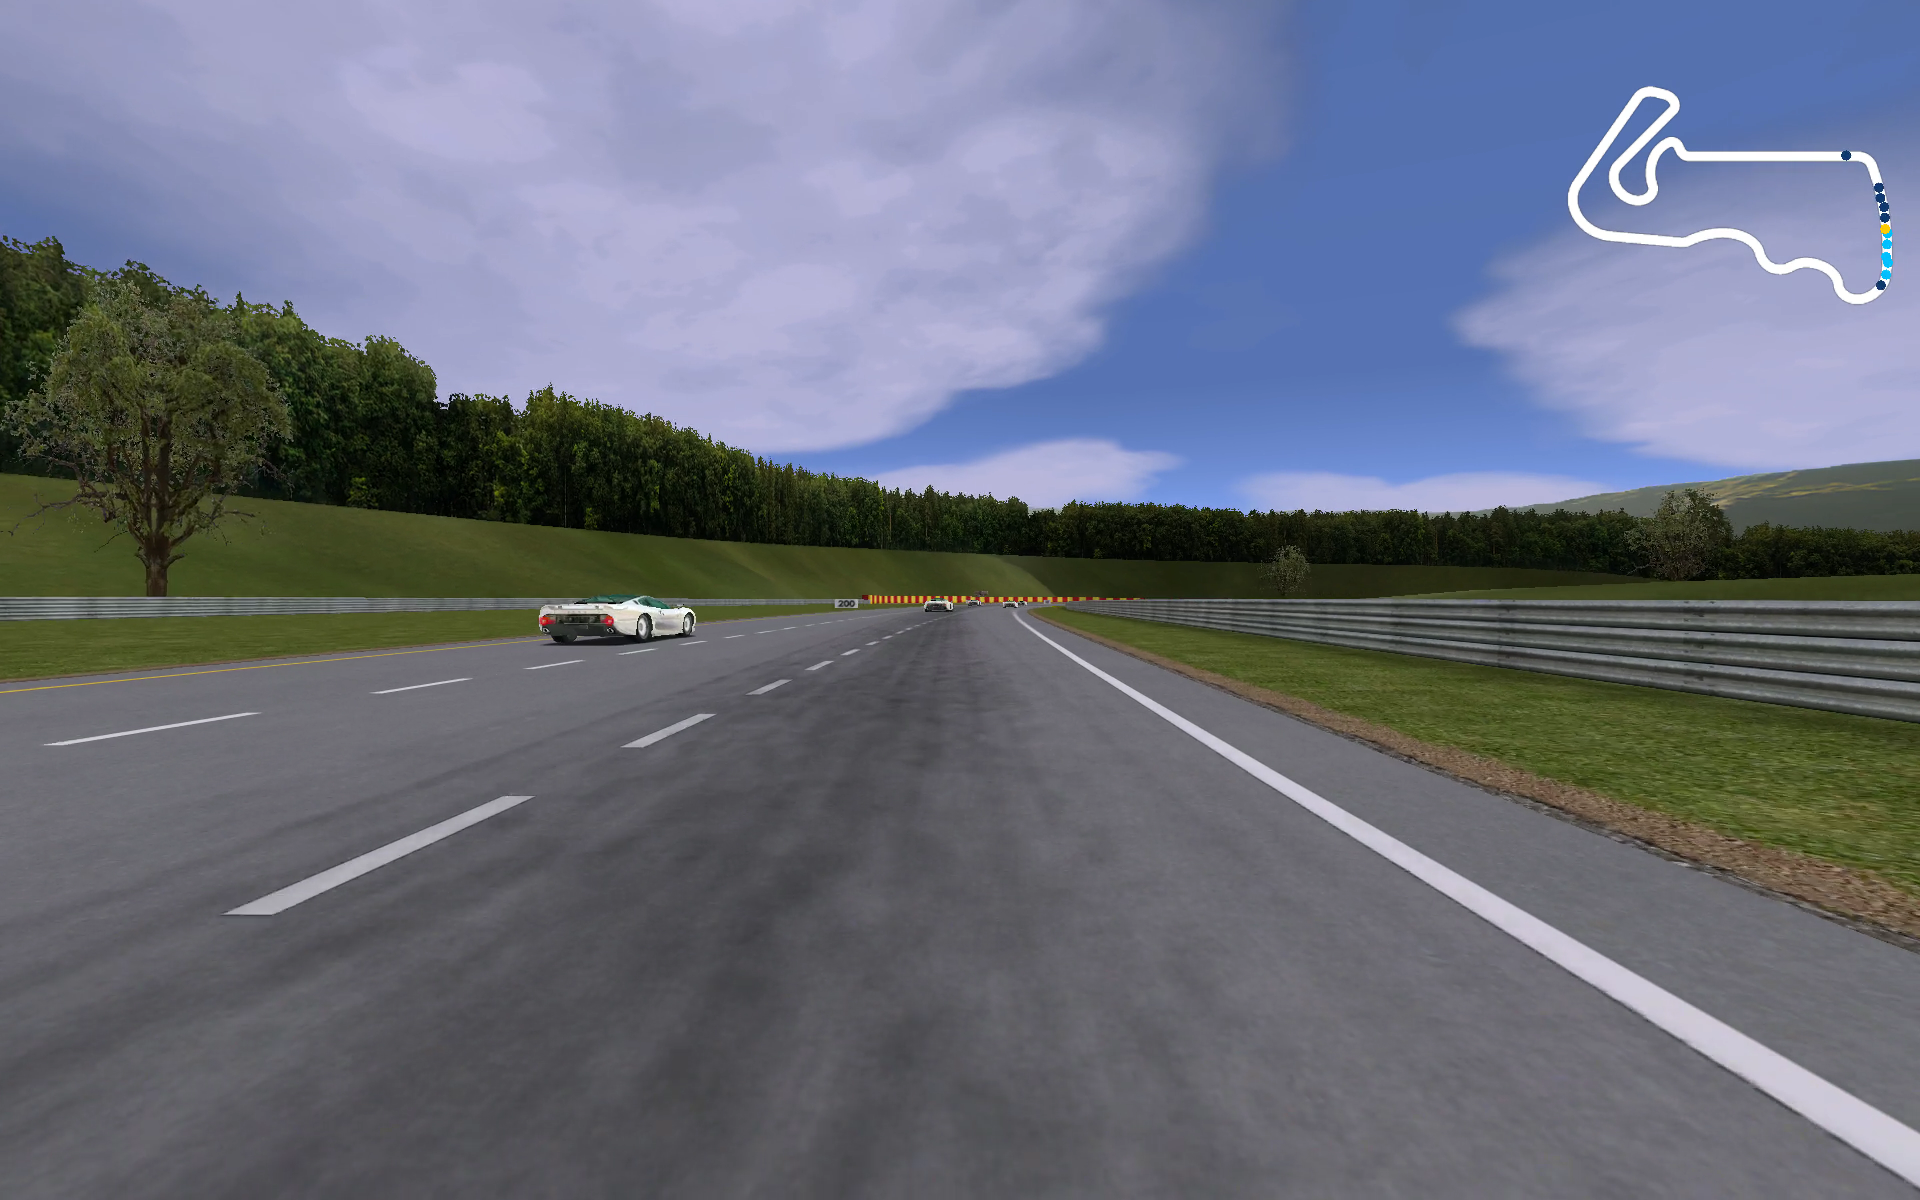car: (536, 592, 701, 648), (921, 596, 955, 612), (999, 599, 1022, 611), (962, 597, 981, 606)
